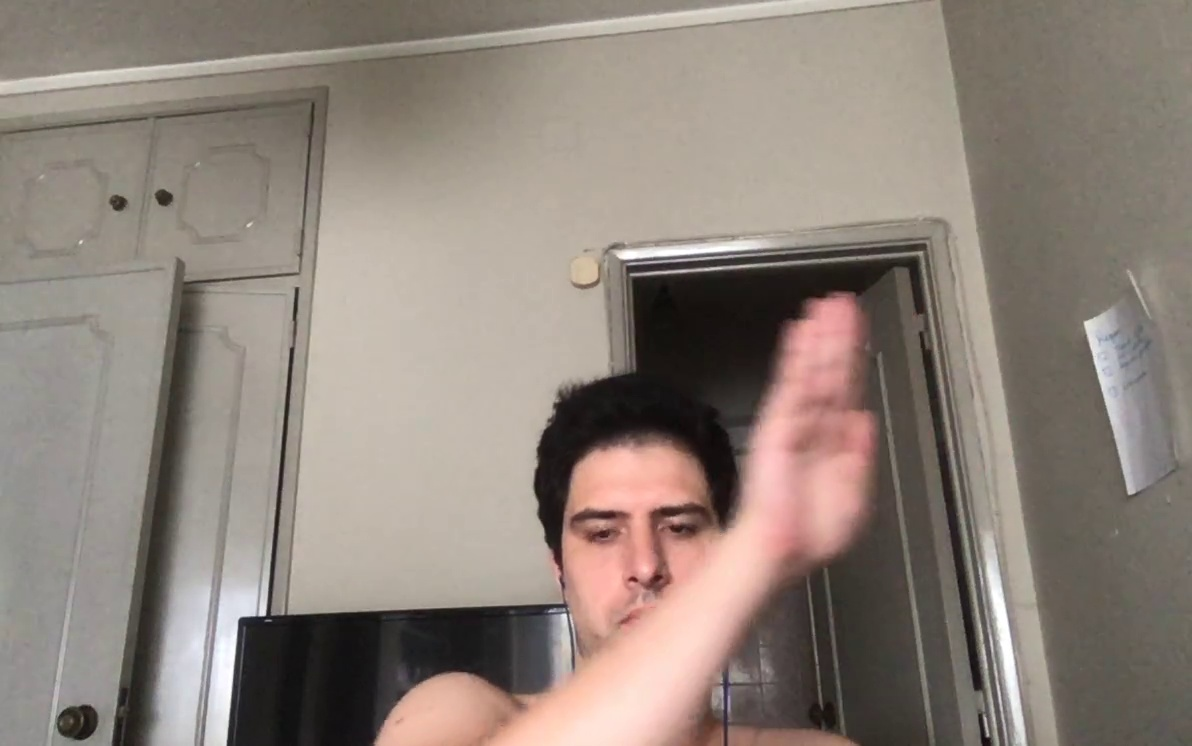b: (750, 278, 885, 574)
